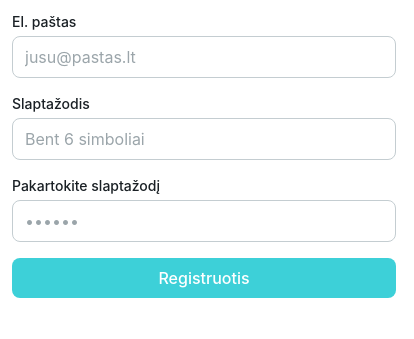
Test: RegisterForm › shows error when passwords do not match
Step 1. Type "test@test.com" into the field labelled "El. paštas" → point(204, 57), box [12,36,396,78]
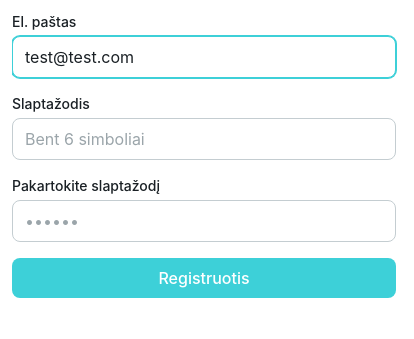
Step 2. Type "password123" into the password field labelled "Slaptažodis" → point(204, 139), box [12,118,396,160]
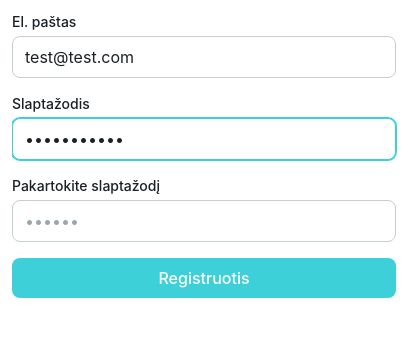
Step 3. Type "different" into the password field labelled "Pakartokite slaptažodį" → point(204, 221), box [12,200,396,242]
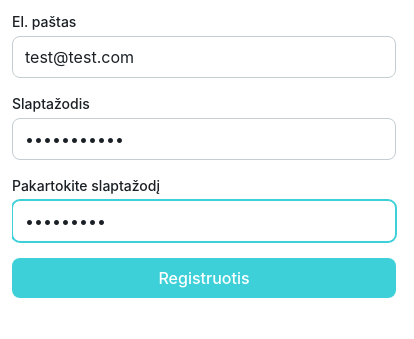
Step 4. Click the button "Registruotis" → point(204, 278), box [12,258,396,298]
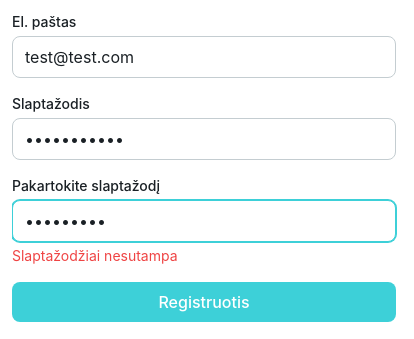
Check: the text "Slaptažodžiai nesutampa" is shown, box [12,247,178,264]
